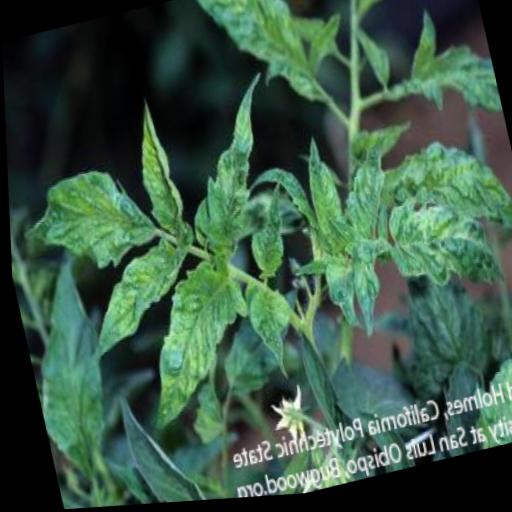Mosaic Virus: (108, 251, 266, 446), (169, 69, 296, 263), (7, 145, 167, 297), (64, 222, 206, 371), (378, 185, 511, 320), (291, 130, 356, 265), (237, 288, 297, 392)
